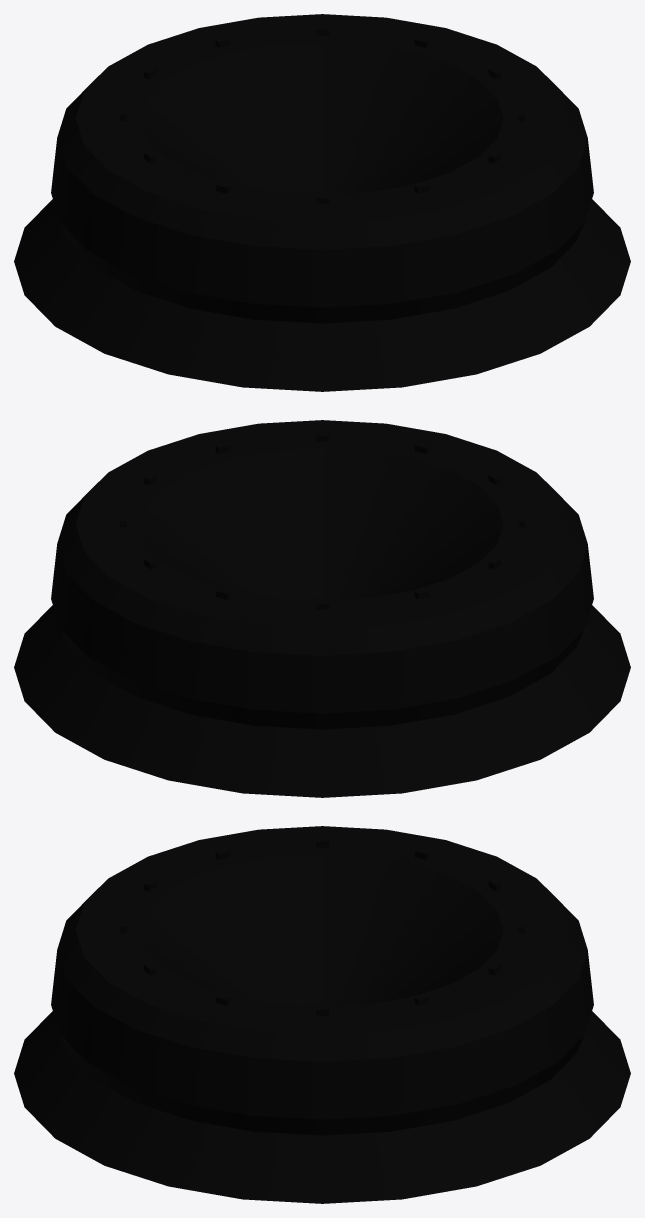
File: Tantares_DockingMechanism_2.obj
3 views of the same model, one above another, from view 1: azimuth 30°, elevation 25°; view 2: azimuth 150°, elevation 25°; view 3: azimuth 270°, elevation 25° (orthographic).
Visible parts, largest first — view 1: Tantares_DockingMechanism_2; view 2: Tantares_DockingMechanism_2; view 3: Tantares_DockingMechanism_2.
Boxes of the visible parts, x1,y1,x2,y2 form: Tantares_DockingMechanism_2: [14, 14, 630, 391]; Tantares_DockingMechanism_2: [14, 420, 630, 797]; Tantares_DockingMechanism_2: [14, 826, 630, 1203].
Size of the model in its own units: 0.9375 by 0.25 by 0.9375.
1 material, 1 textured.
